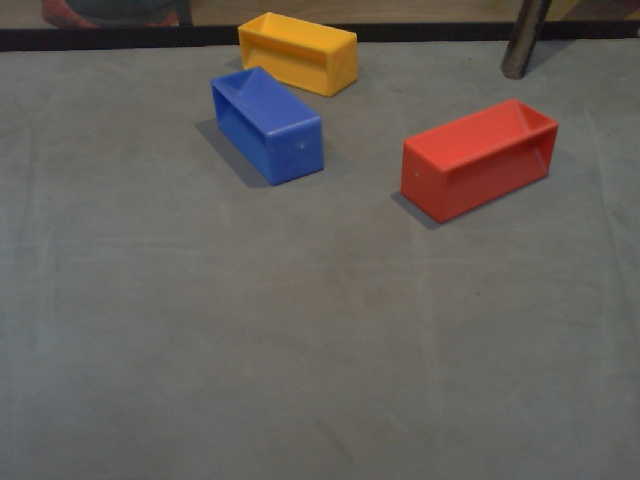BlueSample: (207, 65, 325, 189)
RedSample: (396, 96, 559, 226)
YellowSample: (235, 9, 363, 99)
